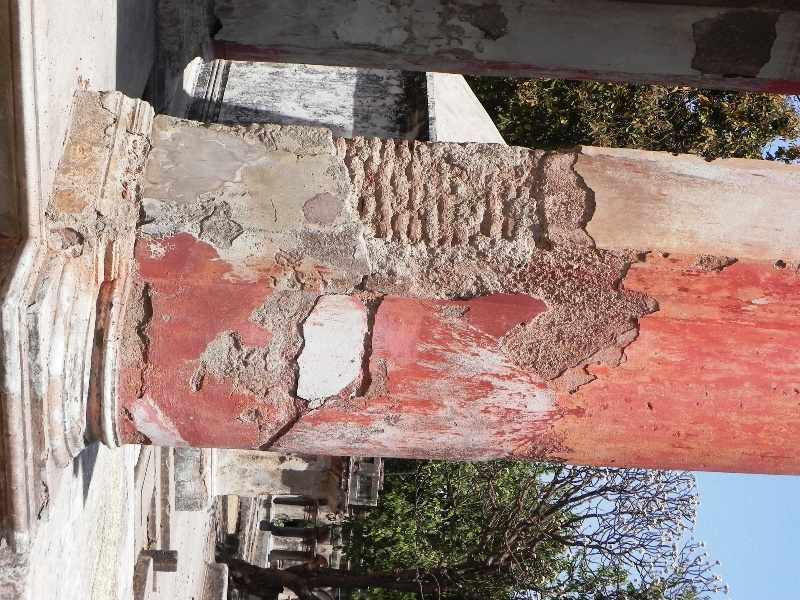Exposed Bricks: (325, 136, 536, 247)
Spalling: (492, 253, 660, 362), (137, 195, 249, 253)
